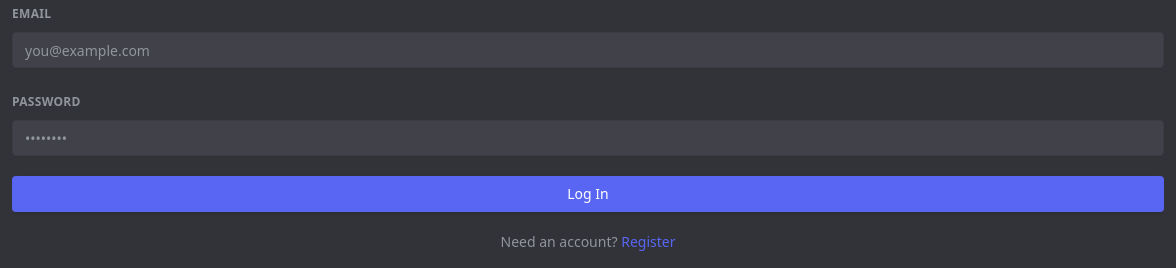
Test: LoginForm › disables button and shows loading text while submitting
In the field labelled "Email": (588, 50) x1=12 y1=32 x2=1164 y2=68, type "user@test.com"
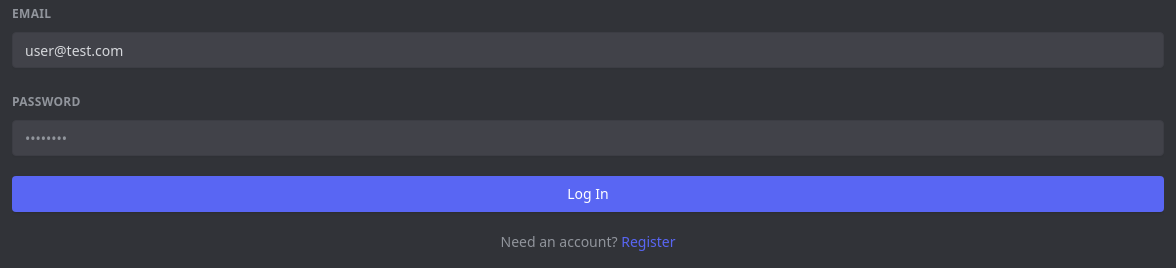
In the password field labelled "Password": (588, 138) x1=12 y1=120 x2=1164 y2=156, type "password123"
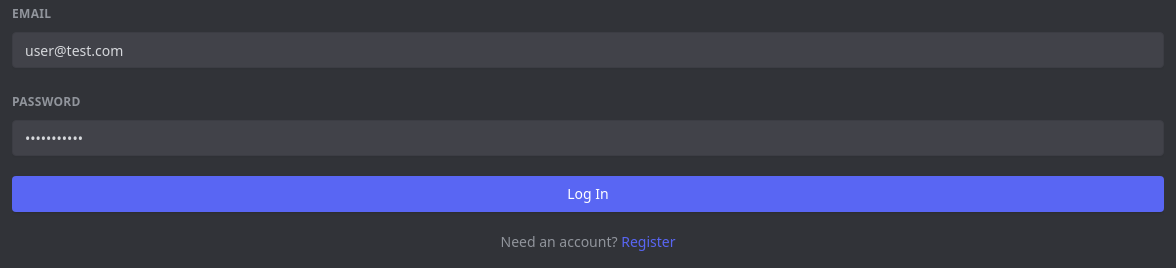
Click the button "Log In": (588, 194) x1=12 y1=176 x2=1164 y2=212
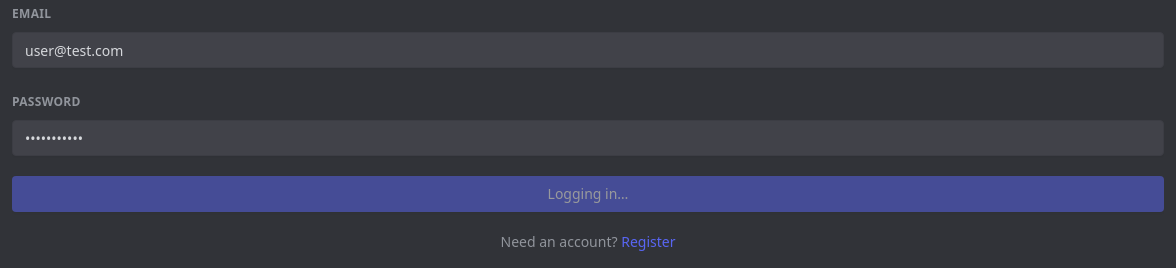
Expected: the button "Logging in…" is disabled, x1=12 y1=176 x2=1164 y2=212
